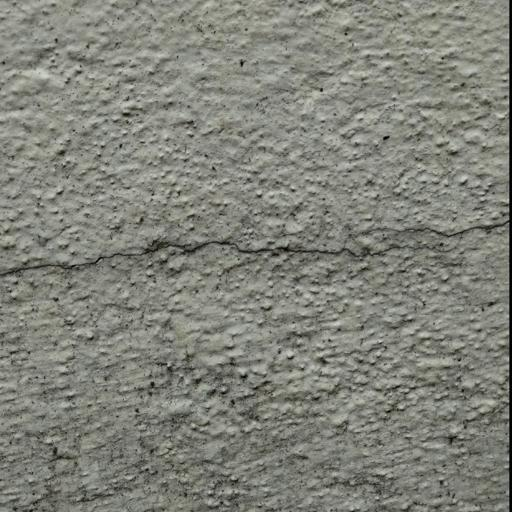minor_crack: (0, 209, 512, 283)
